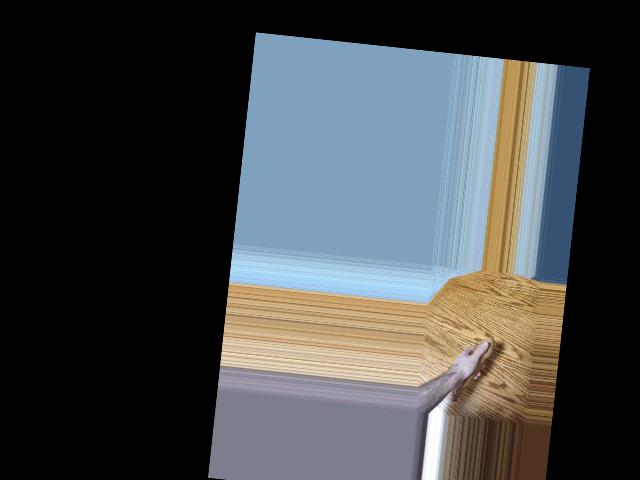sweet_potato: (448, 336, 493, 407)
